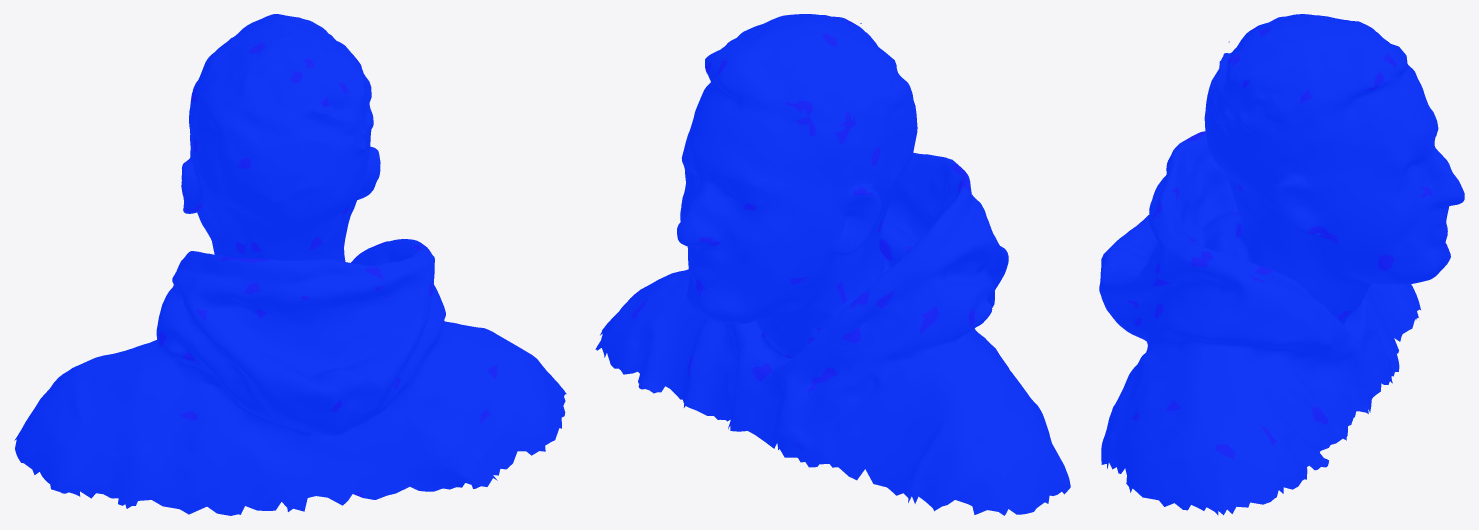
File: Head2.glb
3 renders of one model, left to right at view 1: azimuth 30°, elevation 25°; view 2: azimuth 150°, elevation 25°; view 3: azimuth 270°, elevation 25°, orthographic. The views are drawn at different scales.
Parts seen in each view (by area): view 1: mesh_medpoly; view 2: mesh_medpoly; view 3: mesh_medpoly.
Part boxes in pixels (x1,y1,x2,y2): mesh_medpoly: [14, 14, 566, 515]; mesh_medpoly: [595, 14, 1070, 515]; mesh_medpoly: [1099, 14, 1464, 515].
Size of the model in its own units: 1.98 by 1.58 by 1.32.
